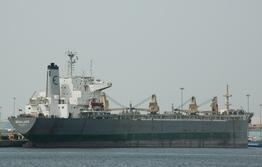Cargoship: (6, 50, 260, 150)
